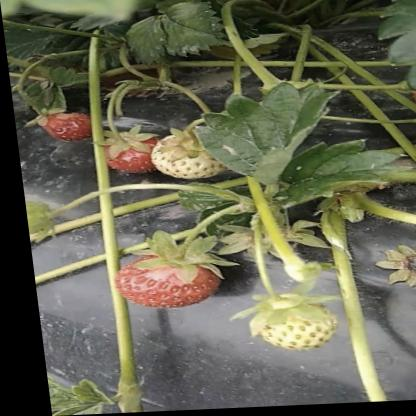ripe: (104, 256, 213, 313), (89, 134, 153, 176), (38, 112, 89, 143)
unripe: (243, 303, 331, 356), (146, 137, 220, 184)
